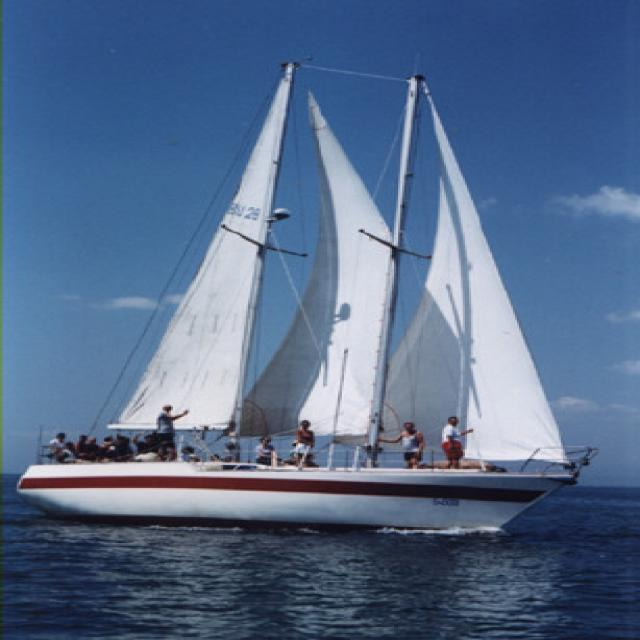Ship: (9, 58, 576, 538)
